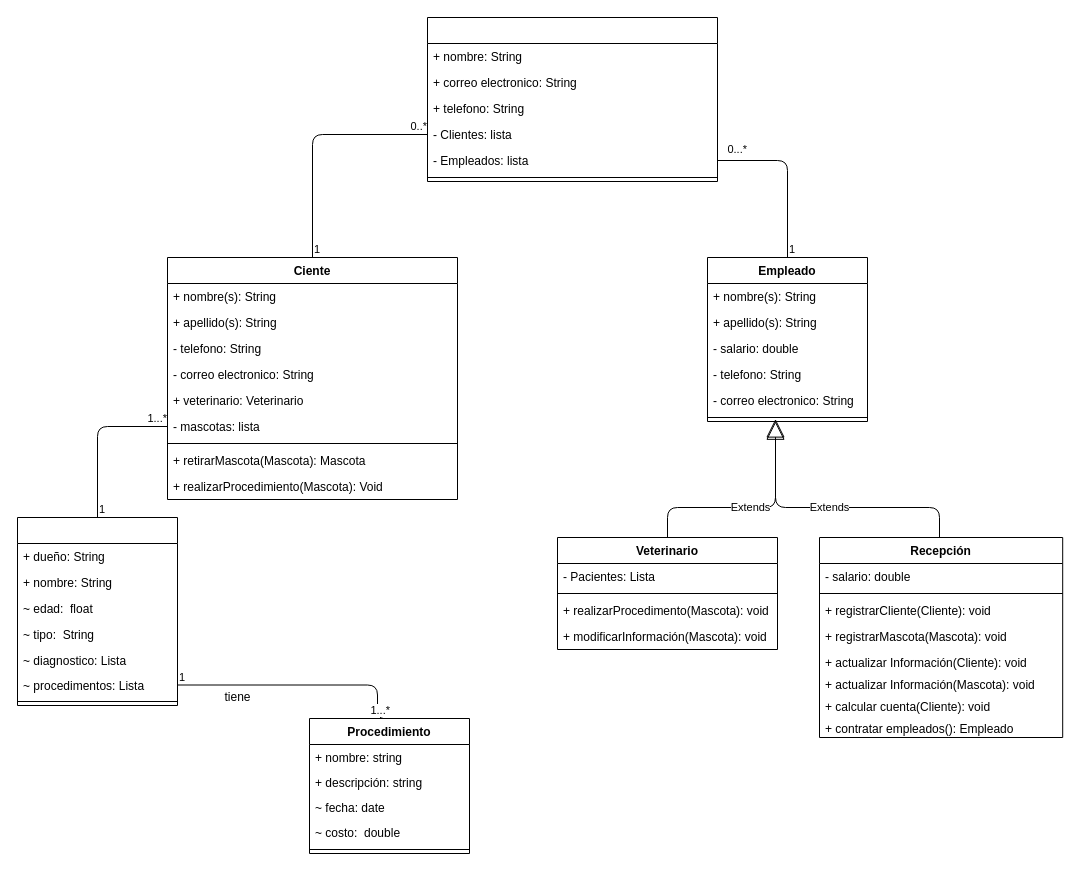
Image size: 1081x871. Some labels were removed from this diagram. Each missing label, with the box of its shape:
Clinica: (426, 16, 718, 182)
Mascota: (16, 516, 178, 706)
